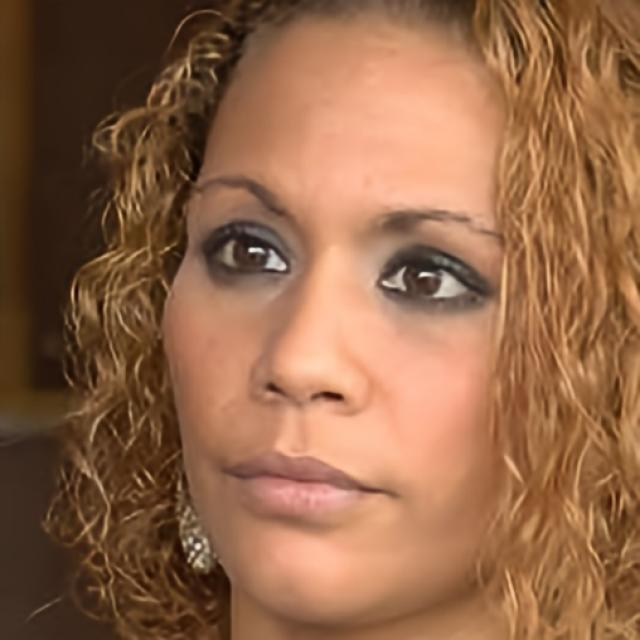neutral: (160, 0, 507, 629)
